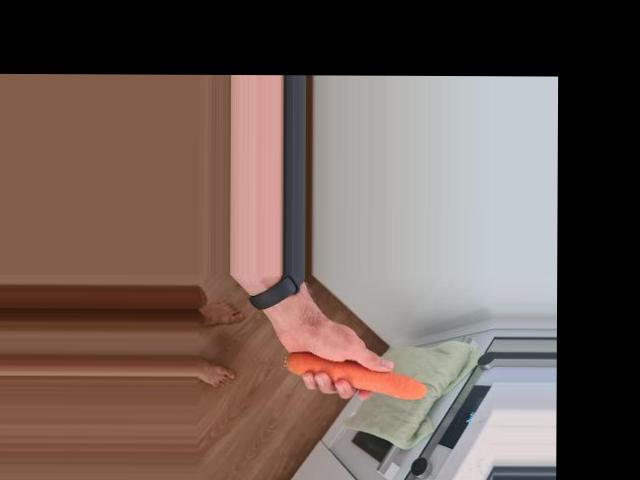carrot: (282, 350, 426, 401)
